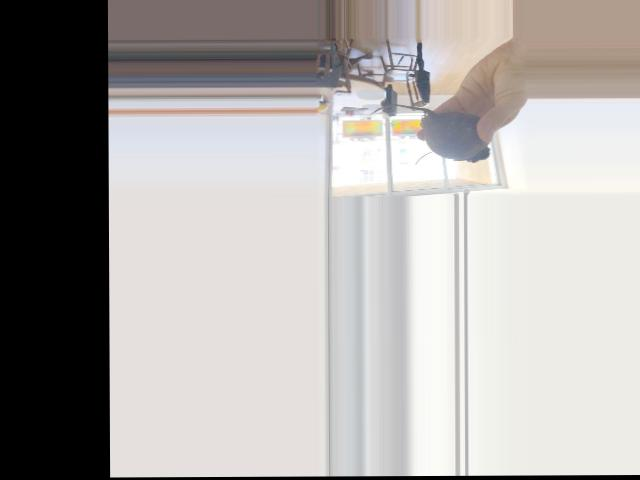beet: (370, 103, 489, 163)
